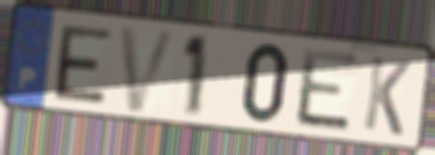0: (239, 42, 291, 126)
1: (180, 33, 212, 118)
E: (295, 46, 361, 135), (53, 23, 115, 107)
K: (361, 53, 414, 140)
V: (116, 24, 181, 115)
